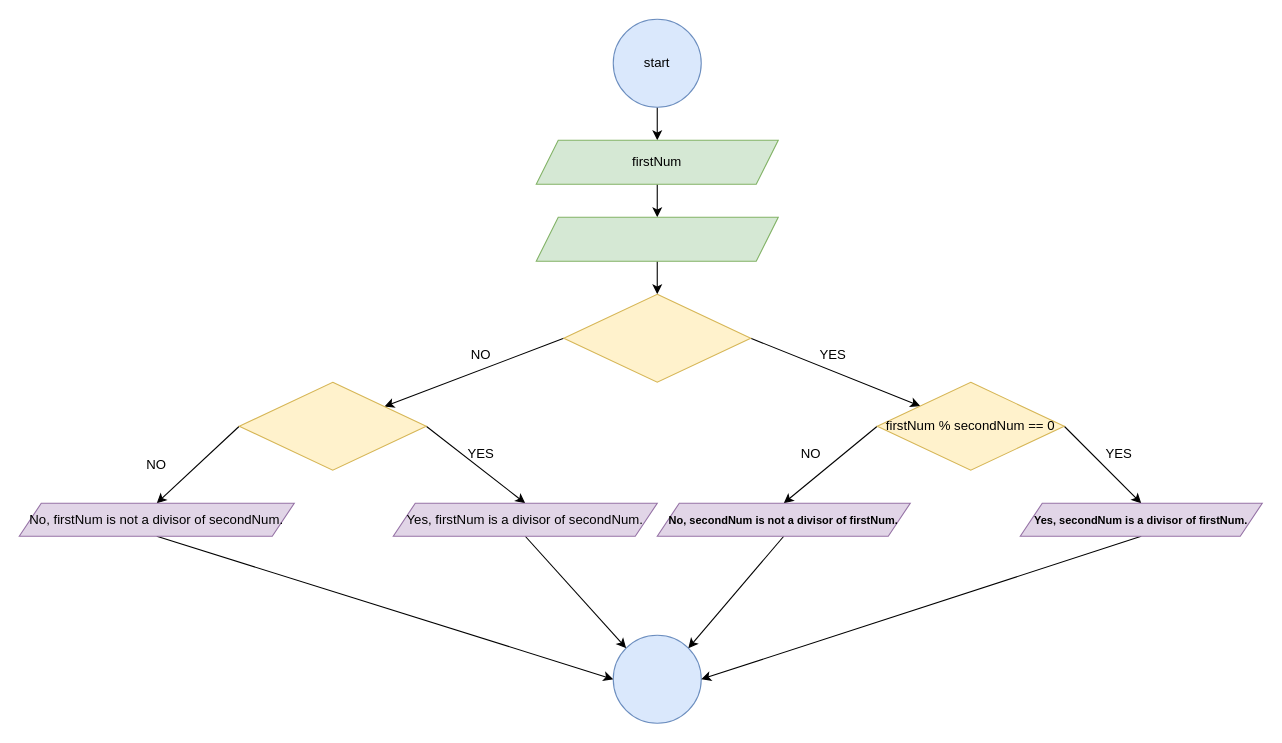
This 1282x743 diagram has some shape labels left out. The shapes that lost their labels are listed below. From the top down, each one's centre as x and y in pixels, then its label:
At (656,238): "secondNum".
At (657,337): "firstNum > secondNum".
At (332,425): "secondNum % firstNum == 0".
At (656,678): "end".
